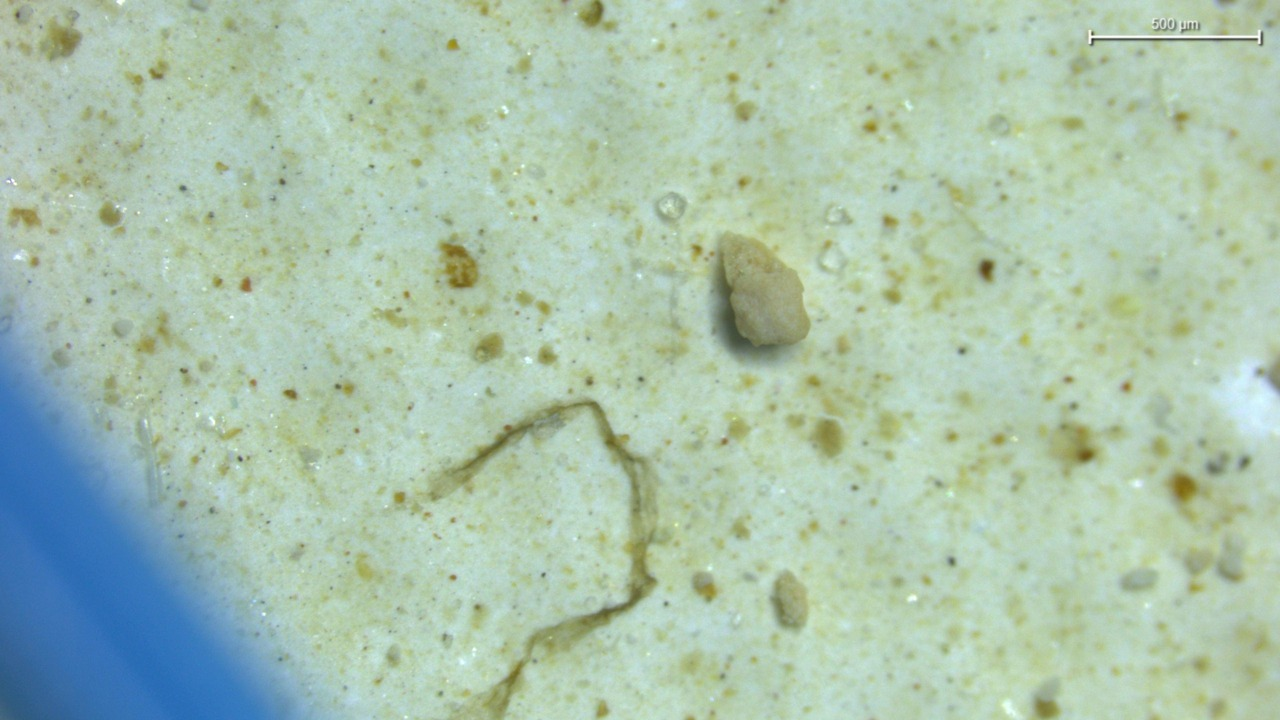microplastic_fragment: (719, 231, 810, 346), (771, 570, 808, 629), (656, 192, 688, 221)
